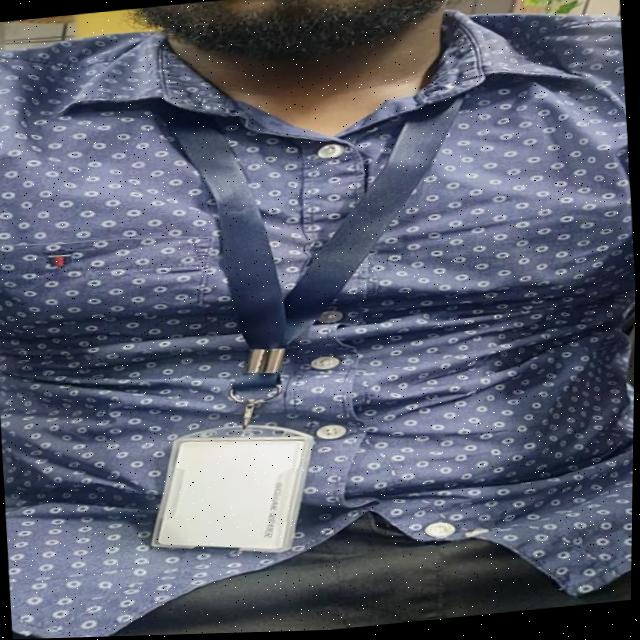id_card: (116, 56, 505, 575)
